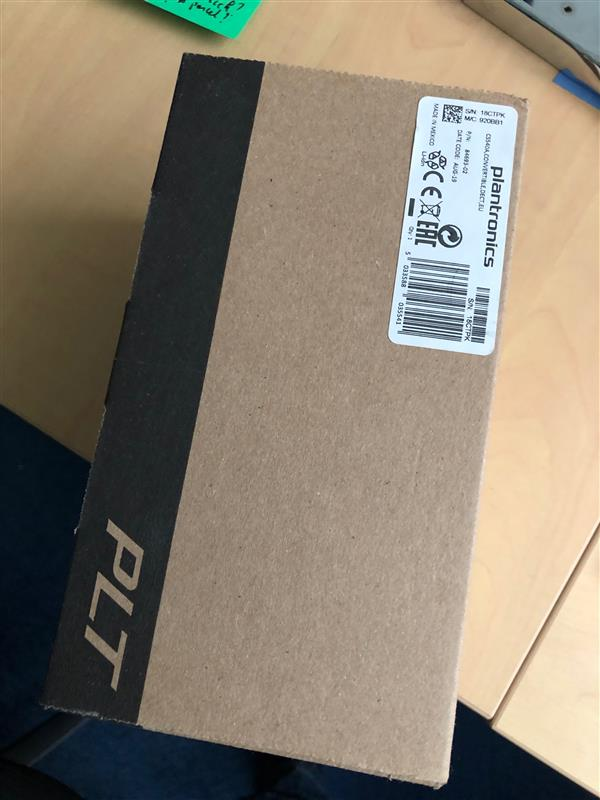label: (392, 93, 520, 357)
package: (42, 56, 532, 797)
